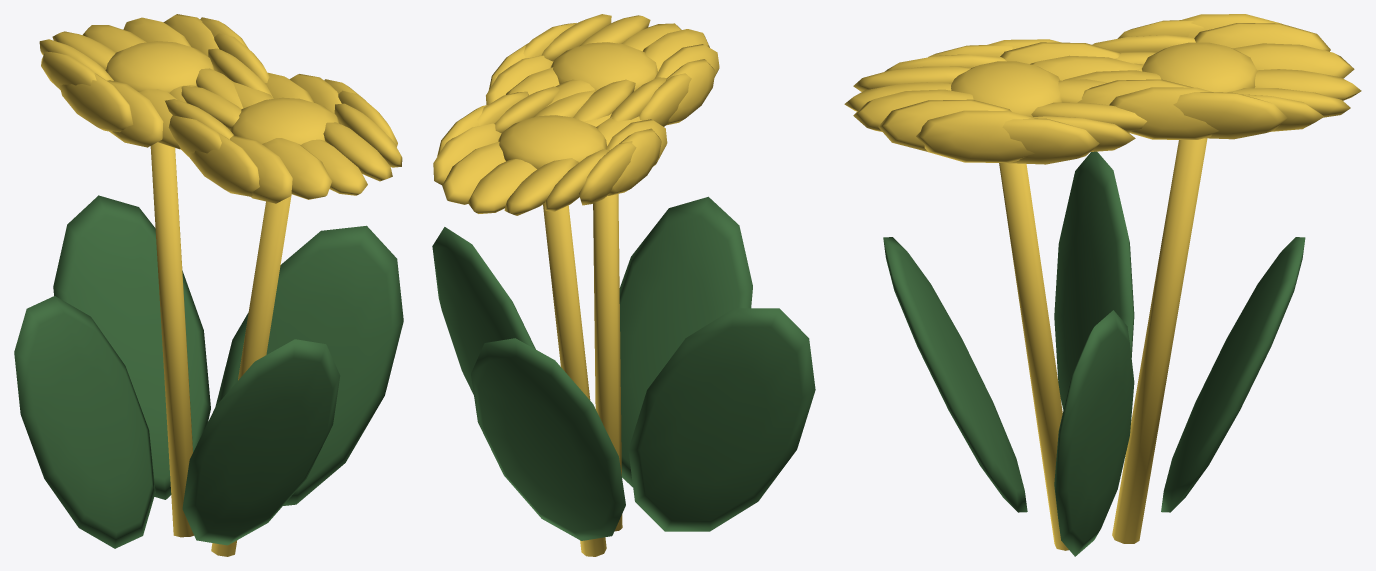
Rendered from flowers_13.glb.
The picture shows the model from 3 angles, left to right: view 1: azimuth 30°, elevation 25°; view 2: azimuth 150°, elevation 25°; view 3: azimuth 270°, elevation 25°; orthographic projection. The views are drawn at different scales.
Parts seen in each view (by area): view 1: Tint, Coarse leaf.003, Coarse leaf, Coarse leaf.001, Coarse leaf.002; view 2: Tint, Coarse leaf.003, Coarse leaf.002, Coarse leaf, Coarse leaf.001; view 3: Tint, Coarse leaf.001, Coarse leaf.003, Coarse leaf, Coarse leaf.002.
Boxes of the visible parts, x1,y1,x2,y2 form: Tint: [39, 14, 402, 556]; Coarse leaf.003: [14, 296, 155, 548]; Coarse leaf: [182, 339, 340, 545]; Coarse leaf.001: [215, 225, 403, 505]; Coarse leaf.002: [53, 195, 210, 499]; Tint: [433, 14, 719, 556]; Coarse leaf.003: [628, 308, 815, 531]; Coarse leaf.002: [471, 338, 625, 540]; Coarse leaf: [619, 196, 752, 487]; Coarse leaf.001: [432, 227, 535, 394]; Tint: [844, 14, 1361, 550]; Coarse leaf.001: [1054, 310, 1134, 556]; Coarse leaf.003: [1054, 151, 1134, 409]; Coarse leaf: [883, 237, 1027, 512]; Coarse leaf.002: [1161, 237, 1305, 512].
Size of the model in its own units: 0.3951 by 0.45 by 0.43.
